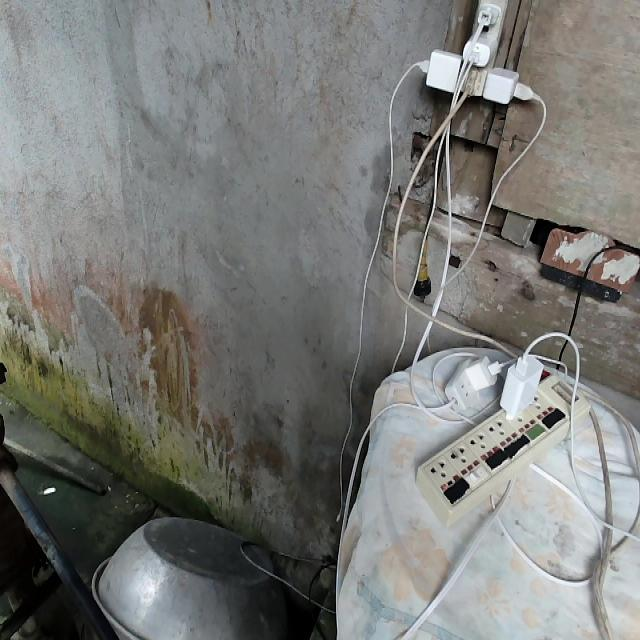-: (414, 1, 534, 106)
